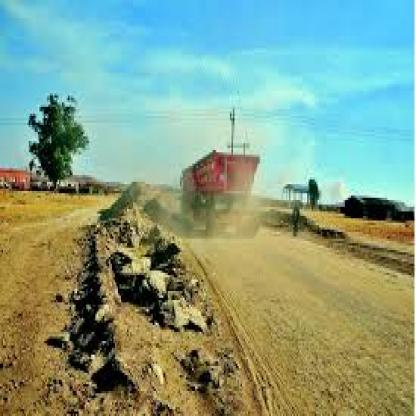dump_truck: (159, 134, 268, 259)
